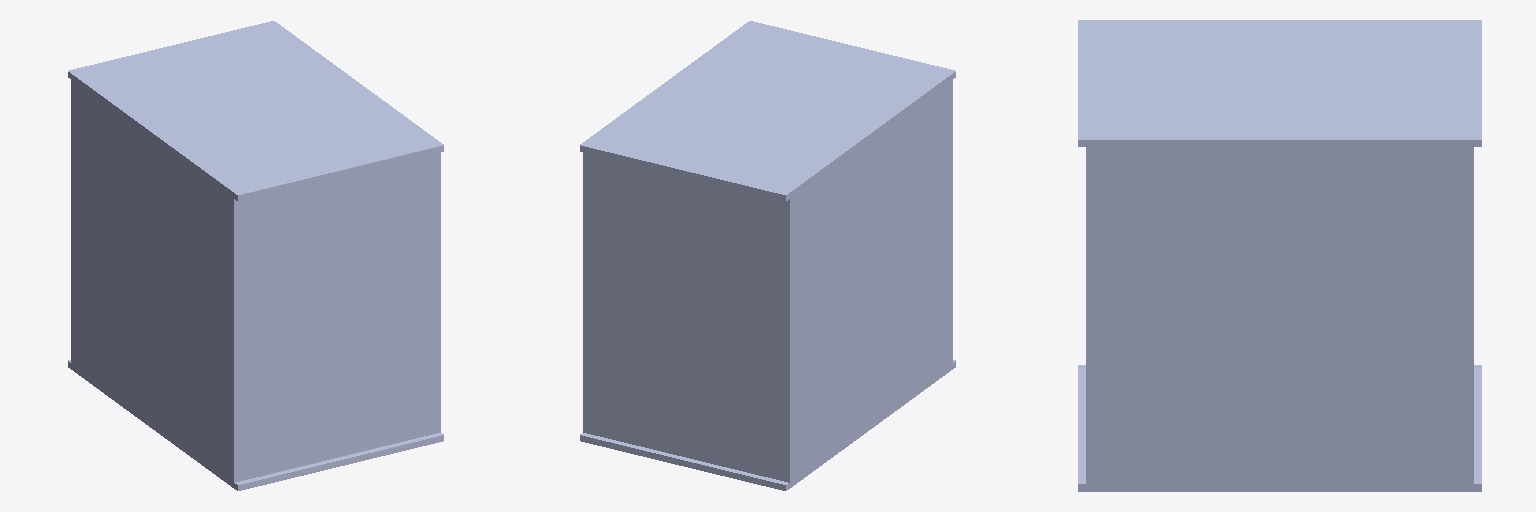
robot.urdf — Drawer_Light_Brown:
<?xml version="1.0" encoding="utf-8"?>
<!-- This URDF was automatically created by SolidWorks to URDF Exporter! Originally created by [author] ([email redacted]) 
     Commit Version: 1.5.1-0-g916b5db  Build Version: 1.5.7152.31018
     For more information, please see http://wiki.ros.org/sw_urdf_exporter -->
<robot
  name="Drawer_Light_Brown">
  <link
    name="Drawer_Light_Brown">
    <inertial>
      <origin
        xyz="-1.5688E-18 -0.00854399999999998 0.2875"
        rpy="0 0 0" />
      <mass
        value="45" />
      <inertia
        ixx="8.159"
        ixy="1.9709E-17"
        ixz="-7.5566E-17"
        iyy="6.0744"
        iyz="-8.48789999999855E-05"
        izz="6.3113" />
    </inertial>
    <visual>
      <origin
        xyz="0 0 0"
        rpy="1.5707963267949 0 0" />
      <geometry>
        <mesh
          filename="package://Drawer_Light_Brown/meshes/Drawer_Light_Brown.STL" />
      </geometry>
      <material
        name="">
        <color
          rgba="0.79216 0.81961 0.93333 1" />
        <texture
          filename="package://Drawer_Light_Brown/textures/" />
      </material>
    </visual>
    <collision>
      <origin
        xyz="0 0 0"
        rpy="1.5707963267949 0 0" />
      <geometry>
        <mesh
          filename="package://Drawer_Light_Brown/meshes/Drawer_Light_Brown.STL" />
      </geometry>
    </collision>
  </link>
</robot>

--- Render facts (derived) ---
Views: 3 orthographic renders of the robot side by side, from view 1: azimuth 30°, elevation 25°; view 2: azimuth 150°, elevation 25°; view 3: azimuth 270°, elevation 25°.
Model Drawer_Light_Brown with 1 links and 0 joints (none), rooted at Drawer_Light_Brown, posed every joint at zero.
Visible links, largest first — view 1: Drawer_Light_Brown; view 2: Drawer_Light_Brown; view 3: Drawer_Light_Brown.
Link boxes in pixels (x1,y1,x2,y2): Drawer_Light_Brown: [68, 21, 443, 490]; Drawer_Light_Brown: [580, 21, 955, 490]; Drawer_Light_Brown: [1078, 20, 1481, 491].
Bounding box of the posed robot: 0.42 × 0.6 × 0.575 m (x, y, z).
Meshes: 1 distinct files referenced, 1 mesh visuals loaded (1 binary STL).